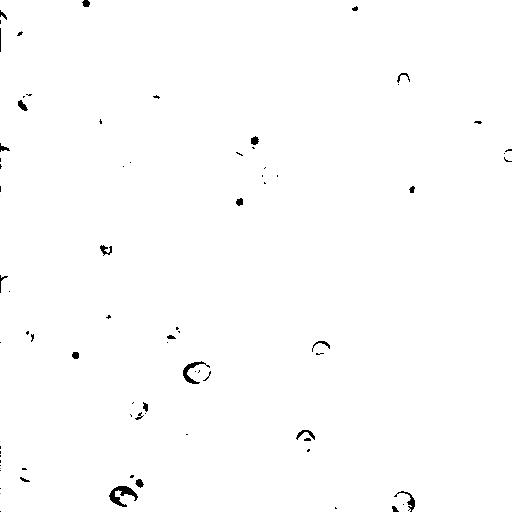micro-algae: (154, 319, 241, 407), (95, 152, 156, 213), (118, 385, 179, 442), (252, 356, 302, 404), (333, 261, 377, 304), (461, 286, 501, 328), (9, 84, 48, 119), (235, 124, 273, 159), (440, 278, 476, 314), (155, 314, 190, 347), (5, 23, 38, 56), (397, 174, 427, 205), (91, 303, 124, 331), (375, 319, 408, 344), (95, 106, 123, 135), (182, 360, 213, 385), (124, 466, 152, 493), (109, 485, 139, 508), (16, 326, 42, 351), (473, 97, 498, 122), (294, 429, 317, 456), (389, 490, 417, 512), (62, 341, 87, 365), (226, 151, 252, 174), (266, 98, 290, 122), (13, 466, 40, 485), (340, 0, 367, 19), (127, 399, 149, 422), (111, 155, 134, 176), (150, 441, 173, 462), (260, 163, 279, 186), (209, 501, 247, 512), (96, 236, 114, 258), (0, 144, 15, 169), (466, 119, 488, 136), (0, 274, 17, 294), (310, 339, 331, 355), (396, 72, 412, 92), (73, 0, 94, 15), (433, 0, 467, 9), (503, 16, 512, 49), (447, 74, 466, 89), (325, 502, 352, 512), (502, 484, 512, 511), (174, 422, 190, 437), (1, 10, 10, 34), (501, 147, 512, 164), (233, 197, 248, 208)
